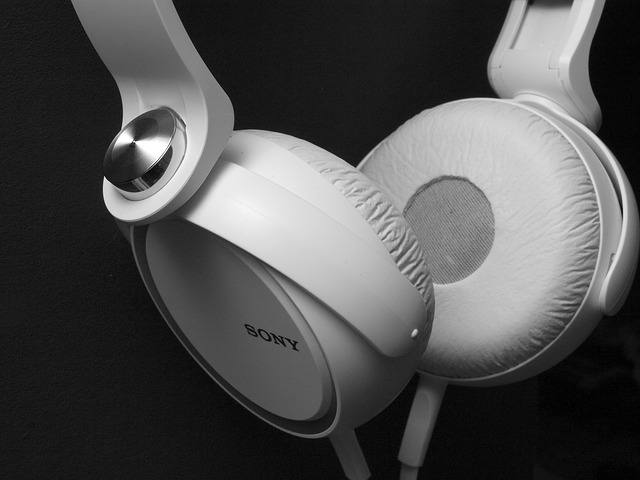headphones: (73, 1, 638, 440)
